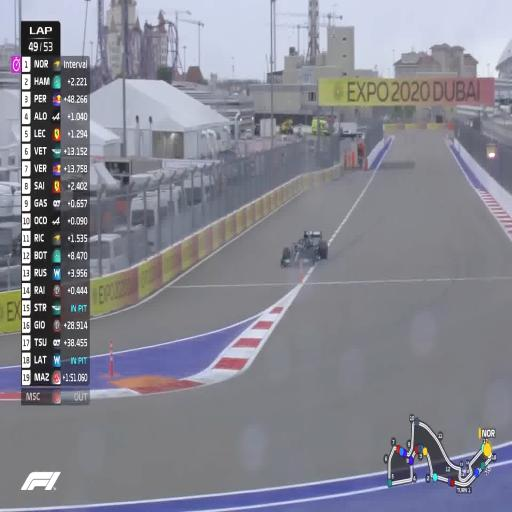f1_car: (281, 231, 327, 266)
